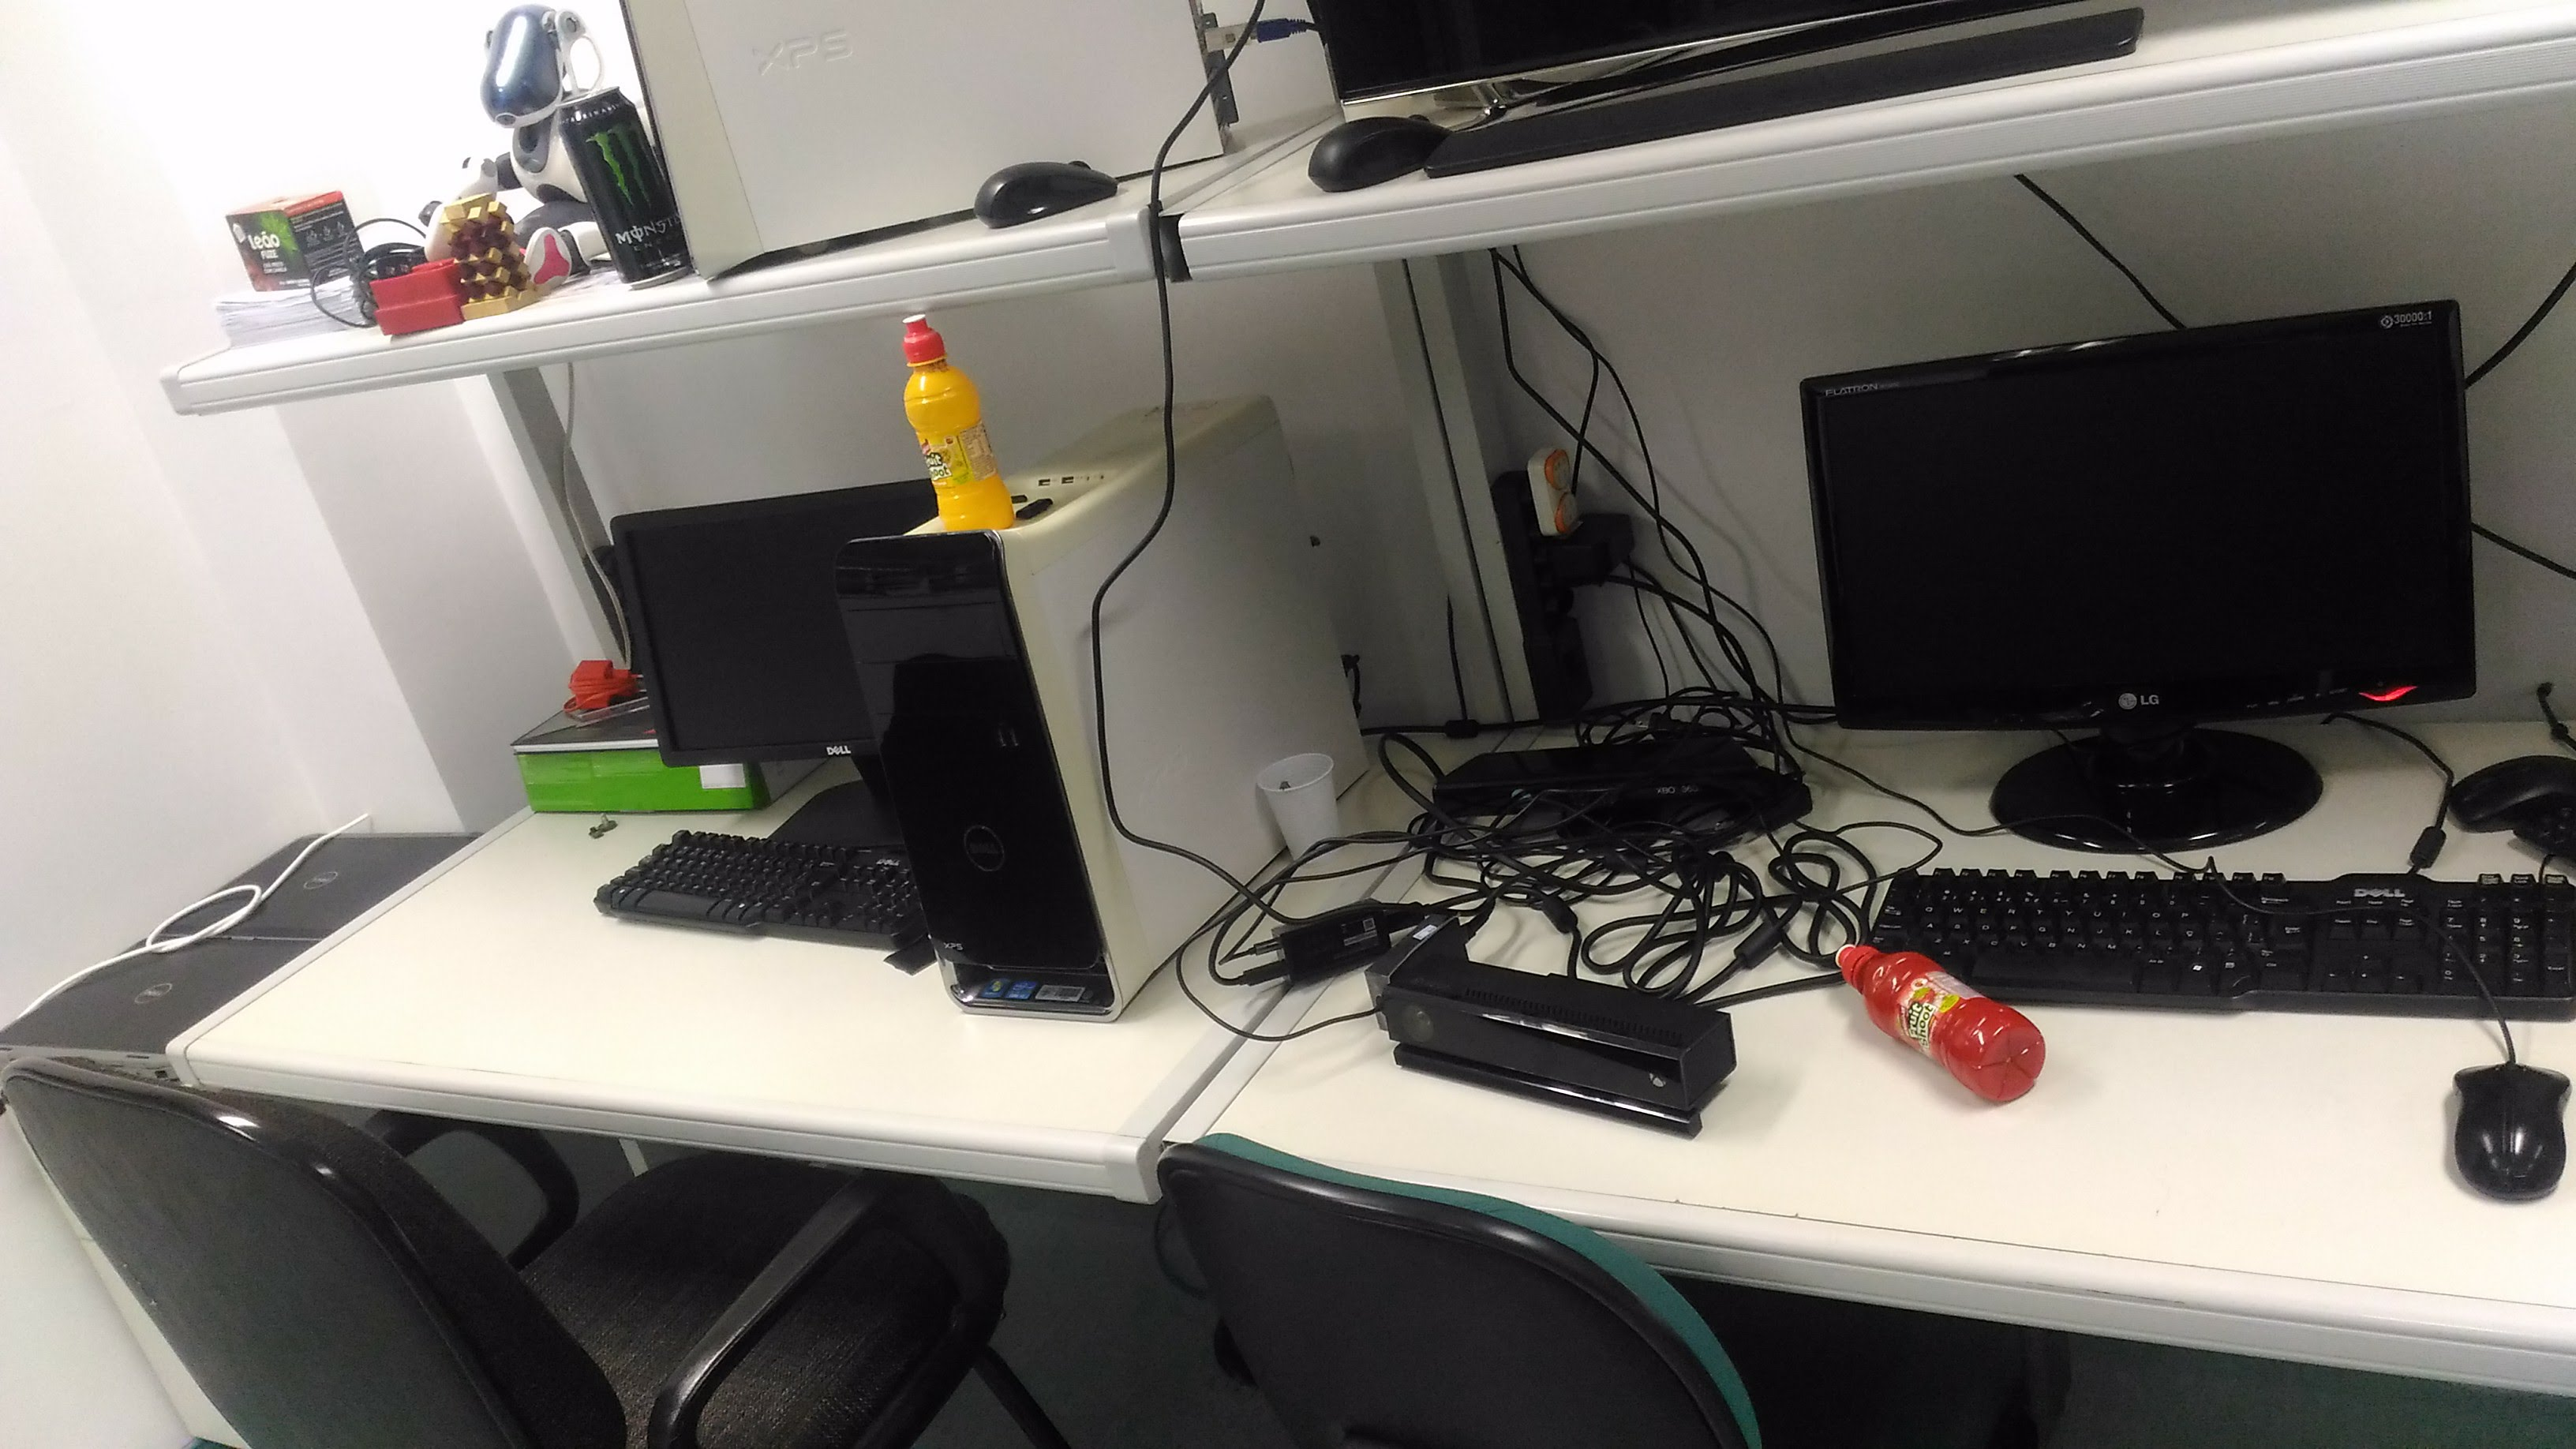monster: (543, 85, 697, 292)
red_juice: (1822, 929, 2056, 1115)
tea_box: (216, 189, 379, 292)
yellow_juice: (893, 301, 1017, 534)
